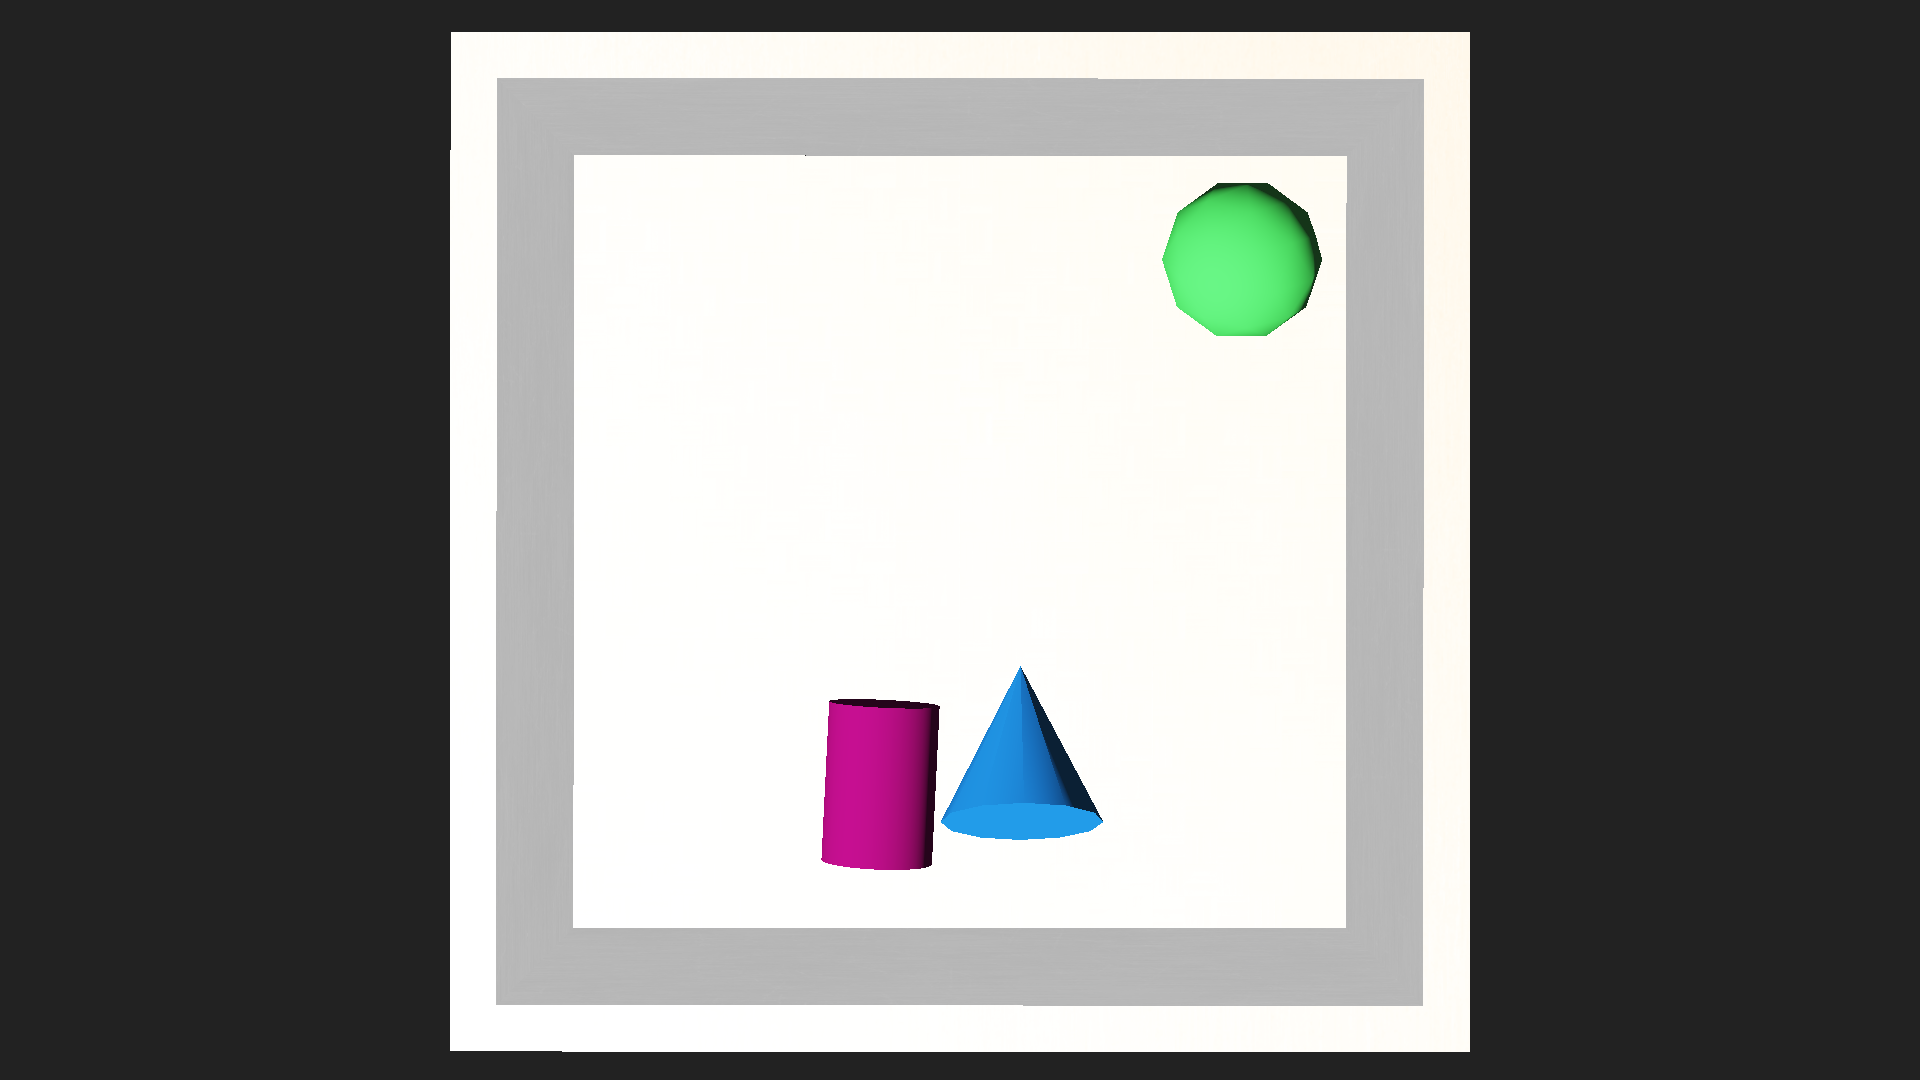cone: (818, 696, 939, 872)
cylinder: (948, 638, 1098, 856)
sphere: (1160, 179, 1321, 339)
